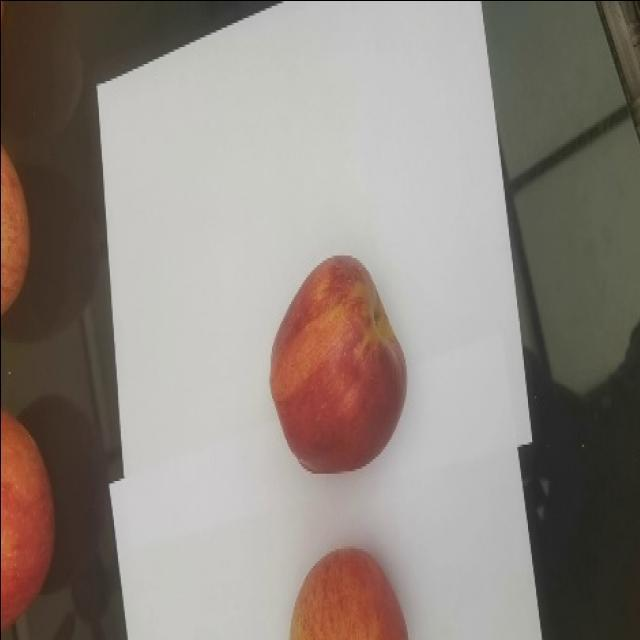Apple: (269, 254, 407, 474), (0, 408, 56, 632), (289, 546, 408, 639), (0, 144, 31, 316)
